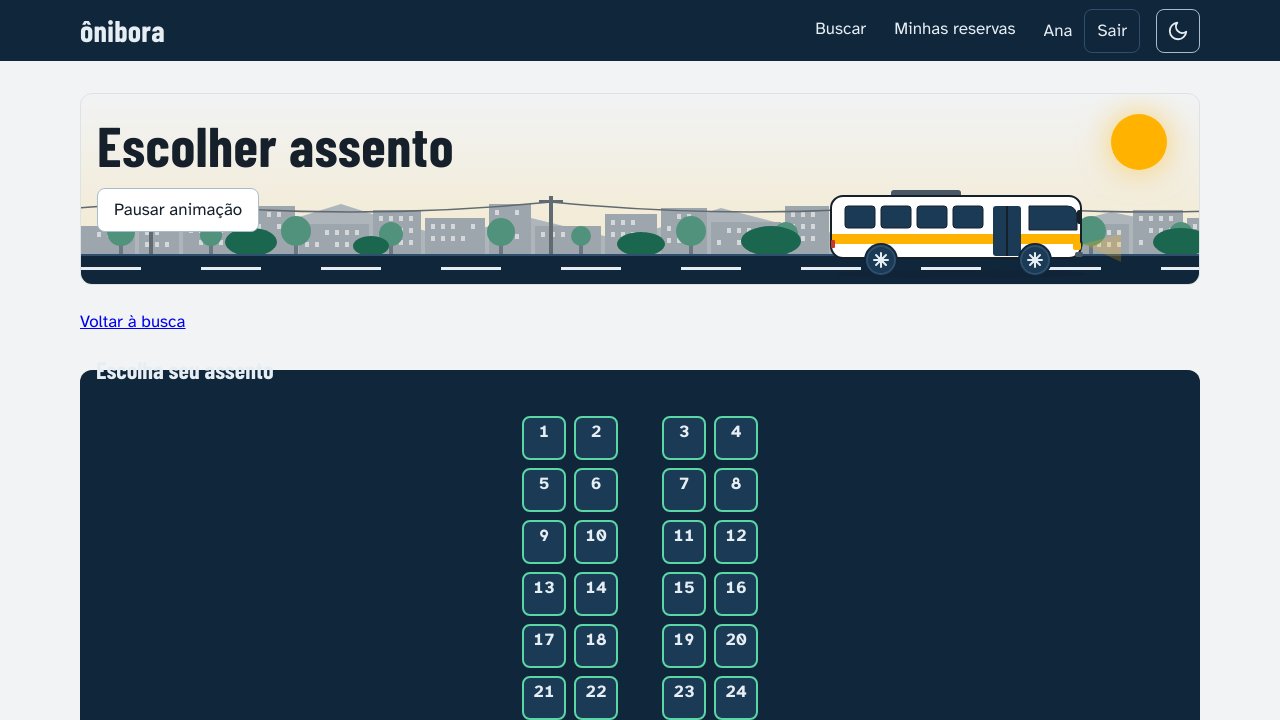
Test case: TripPage: reservar o assento › assento tomado (409): avisa, zera a escolha e recarrega os assentos
Click the radio button named "Assento 7, livre".
click(684, 490)  # box left=662, top=468, right=706, bottom=512
(page scrolled)
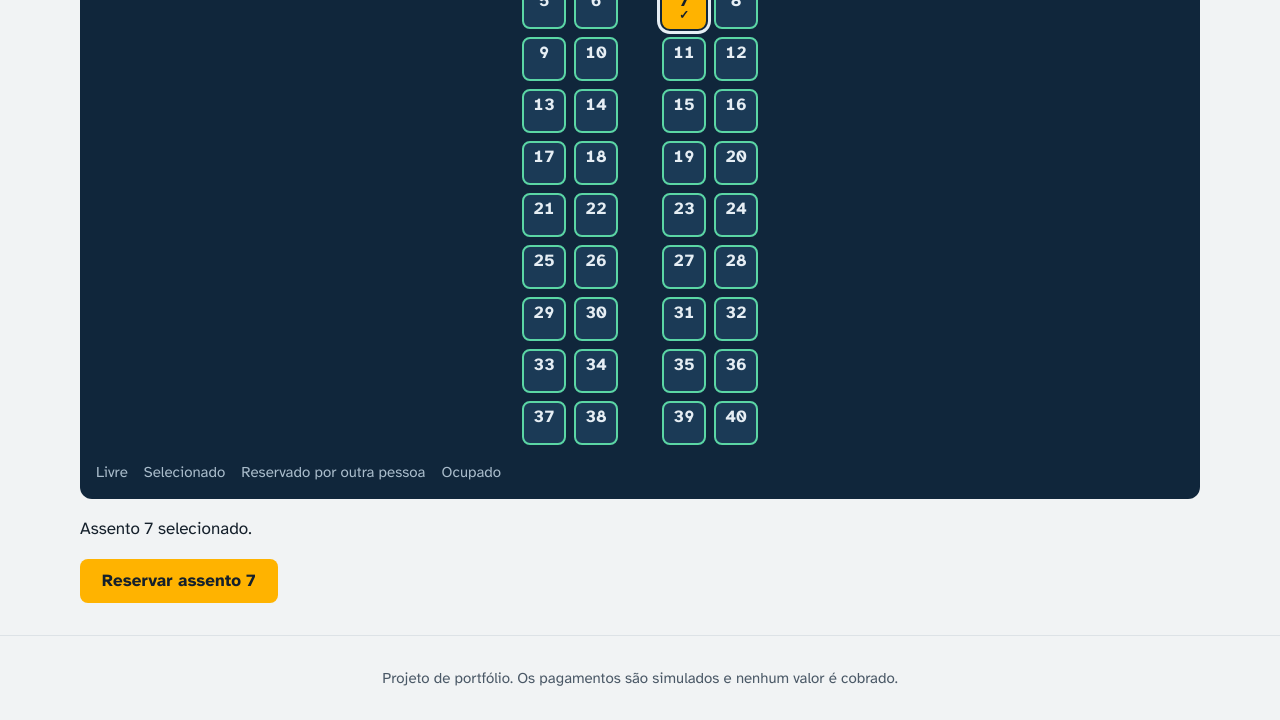
Click the button "Reservar assento 7".
click(179, 580)  # box left=80, top=558, right=278, bottom=602
(page scrolled)
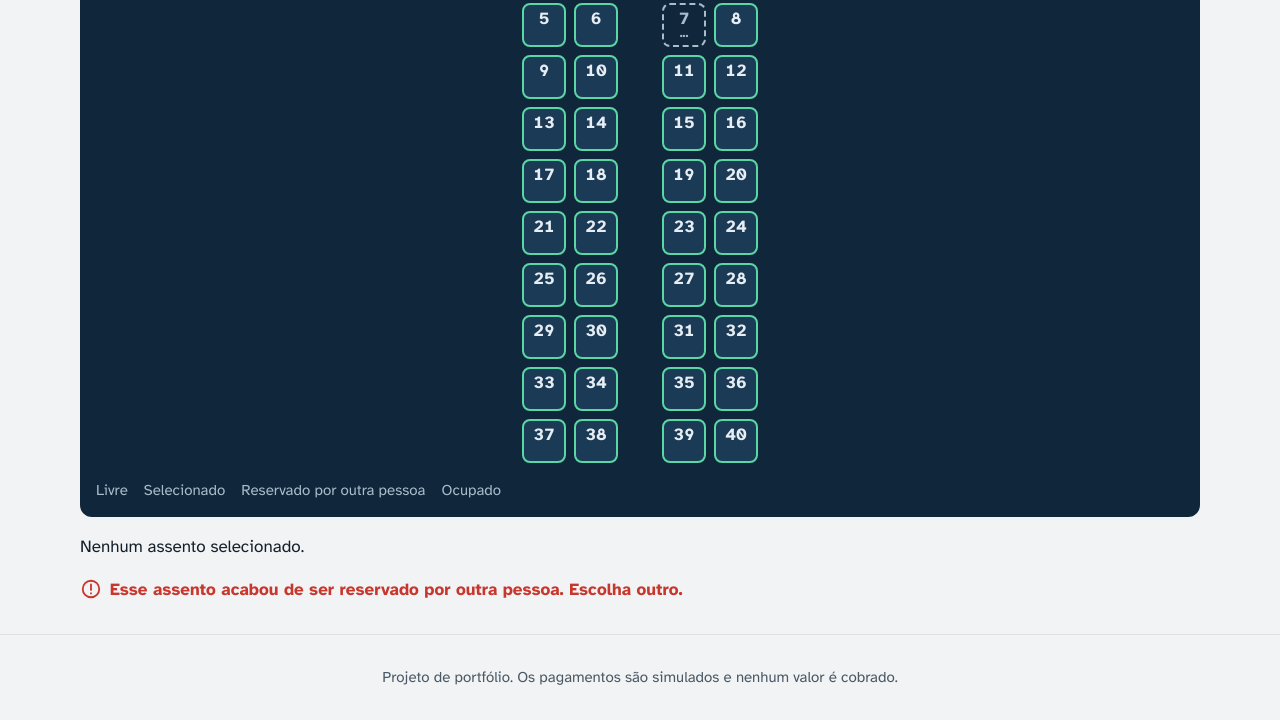
Now the message reads "Esse assento acabou de ser reservado por outra pessoa. Escolha outro.", box left=110, top=578, right=683, bottom=600
Now the radio button named "Assento 7, reservado por outra pessoa" is disabled, box left=662, top=2, right=706, bottom=46
Now the text "Nenhum assento selecionado." is shown, box left=80, top=536, right=304, bottom=557
